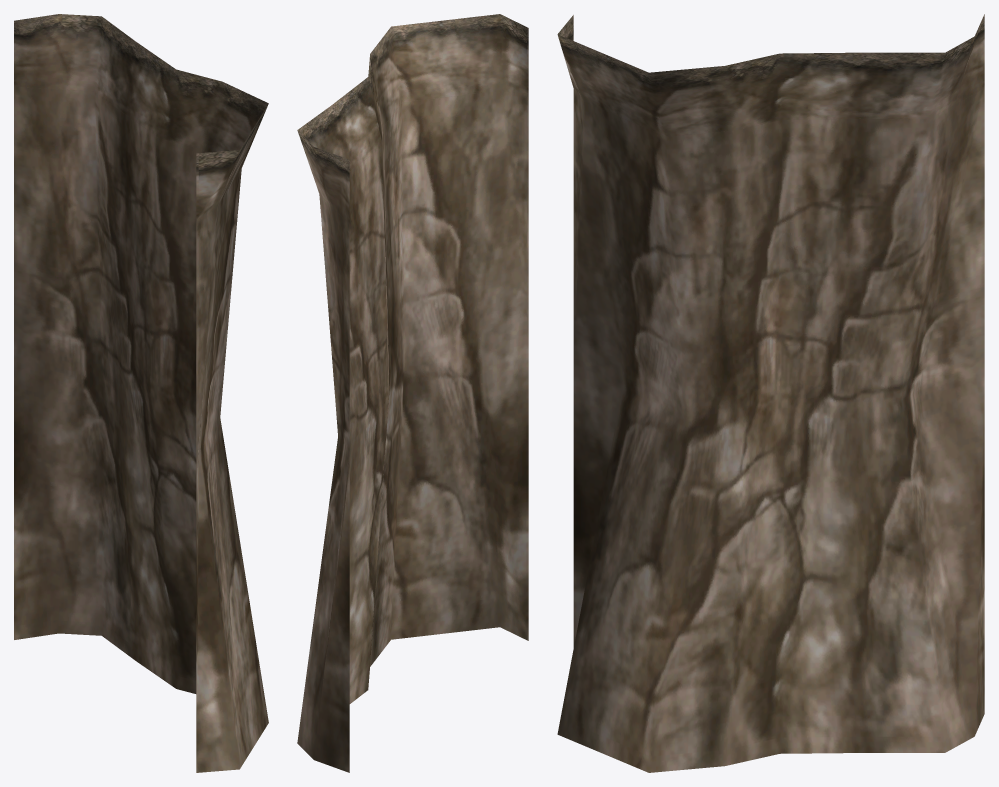
The model's file is OVERHILL_A_01_LINE34.fbx.
The picture shows the model from 3 angles, left to right: view 1: azimuth 30°, elevation 25°; view 2: azimuth 150°, elevation 25°; view 3: azimuth 270°, elevation 25°; orthographic projection. The views are drawn at different scales.
Parts seen in each view (by area): view 1: OVERHILL_A_01_LINE34; view 2: OVERHILL_A_01_LINE34; view 3: OVERHILL_A_01_LINE34.
Boxes of the visible parts, <box> form: OVERHILL_A_01_LINE34: <box>14,14,268,772</box>; OVERHILL_A_01_LINE34: <box>297,14,528,772</box>; OVERHILL_A_01_LINE34: <box>557,14,984,772</box>.
Bounding box in the file's own units: 13560 × 75450 × 41698.
Materials: 2 (2 with a texture image).
